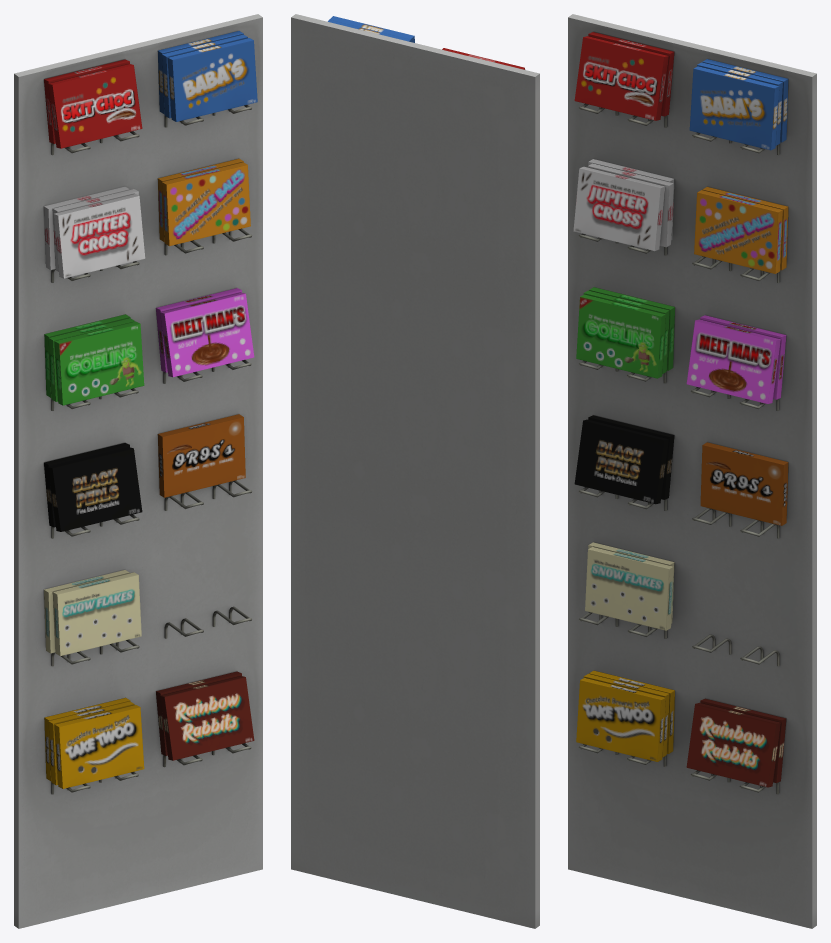
Rendered from video_store_sweets.fbx.
3 views of the same model, side by side, from view 1: azimuth 30°, elevation 25°; view 2: azimuth 150°, elevation 25°; view 3: azimuth 330°, elevation 25° (orthographic).
Parts seen in each view (by area): view 1: Mesh1_Group2_Group1_Model; view 2: Mesh1_Group2_Group1_Model; view 3: Mesh1_Group2_Group1_Model.
Part boxes in pixels (x1,y1,x2,y2): Mesh1_Group2_Group1_Model: [14, 14, 262, 928]; Mesh1_Group2_Group1_Model: [291, 14, 539, 928]; Mesh1_Group2_Group1_Model: [568, 14, 816, 928].
Size of the model in its own units: 30 by 100 by 6.29.
Materials: 1 (1 with a texture image).
